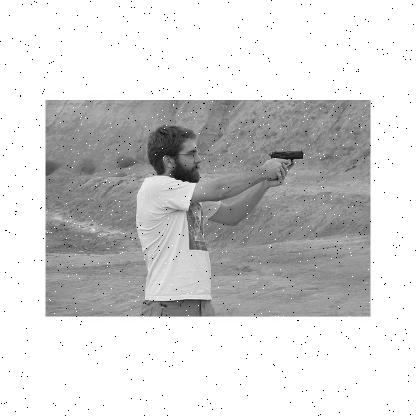gun: (268, 148, 302, 186)
